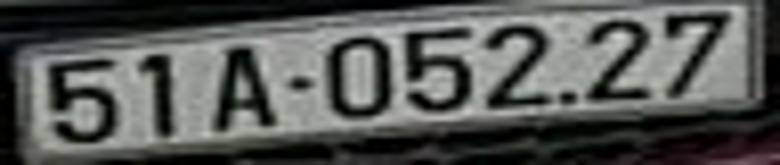-: (289, 74, 311, 93)
.: (560, 84, 577, 108)
0: (329, 35, 393, 118)
1: (135, 53, 174, 136)
2: (481, 21, 552, 111), (586, 17, 653, 106)
5: (46, 58, 121, 145), (404, 28, 474, 115)
7: (662, 12, 733, 103)
A: (210, 46, 280, 130)
